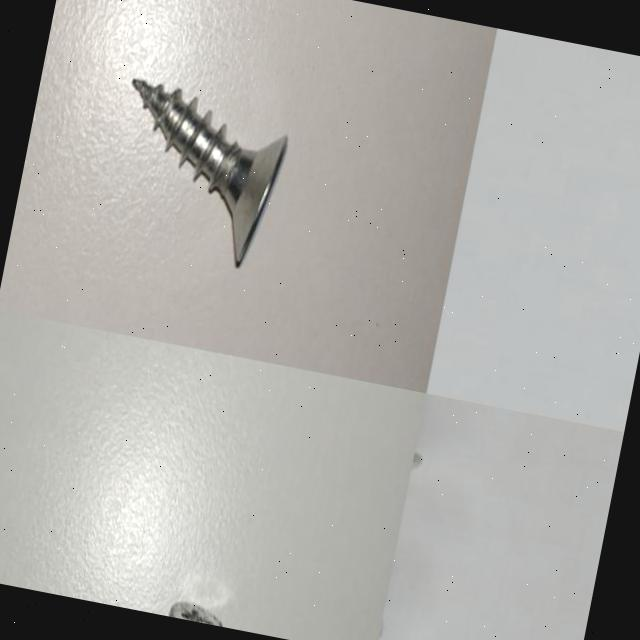Screw: (133, 79, 288, 267), (169, 601, 222, 627)
